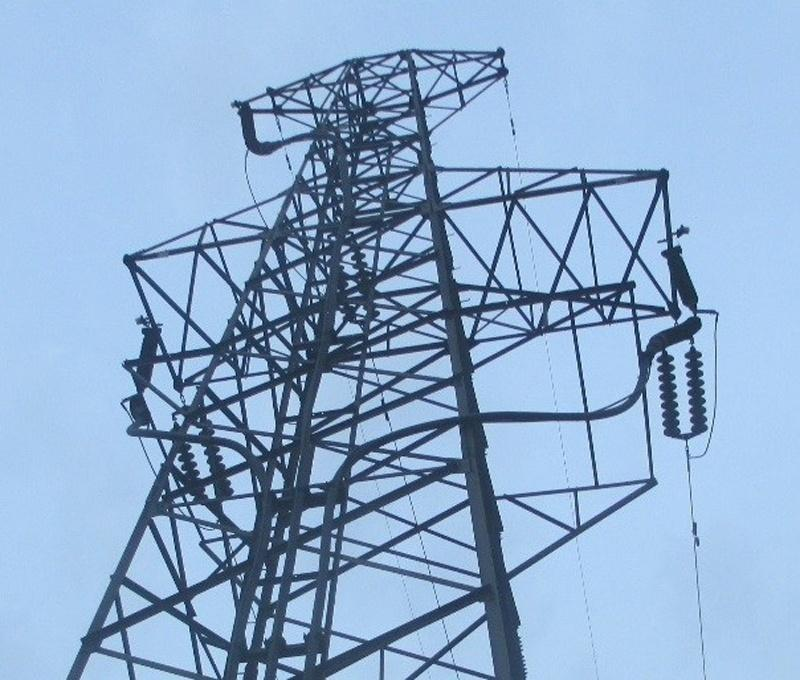power_tower: (62, 50, 704, 672)
